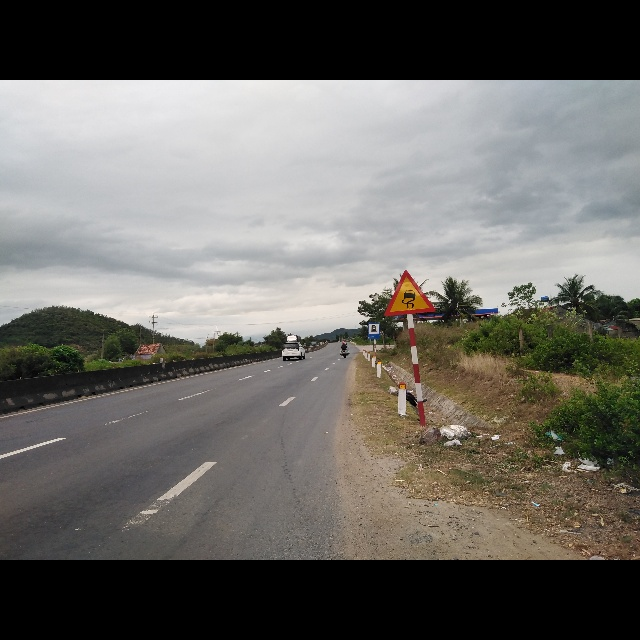Đường trơn trượt: (382, 267, 435, 318)
